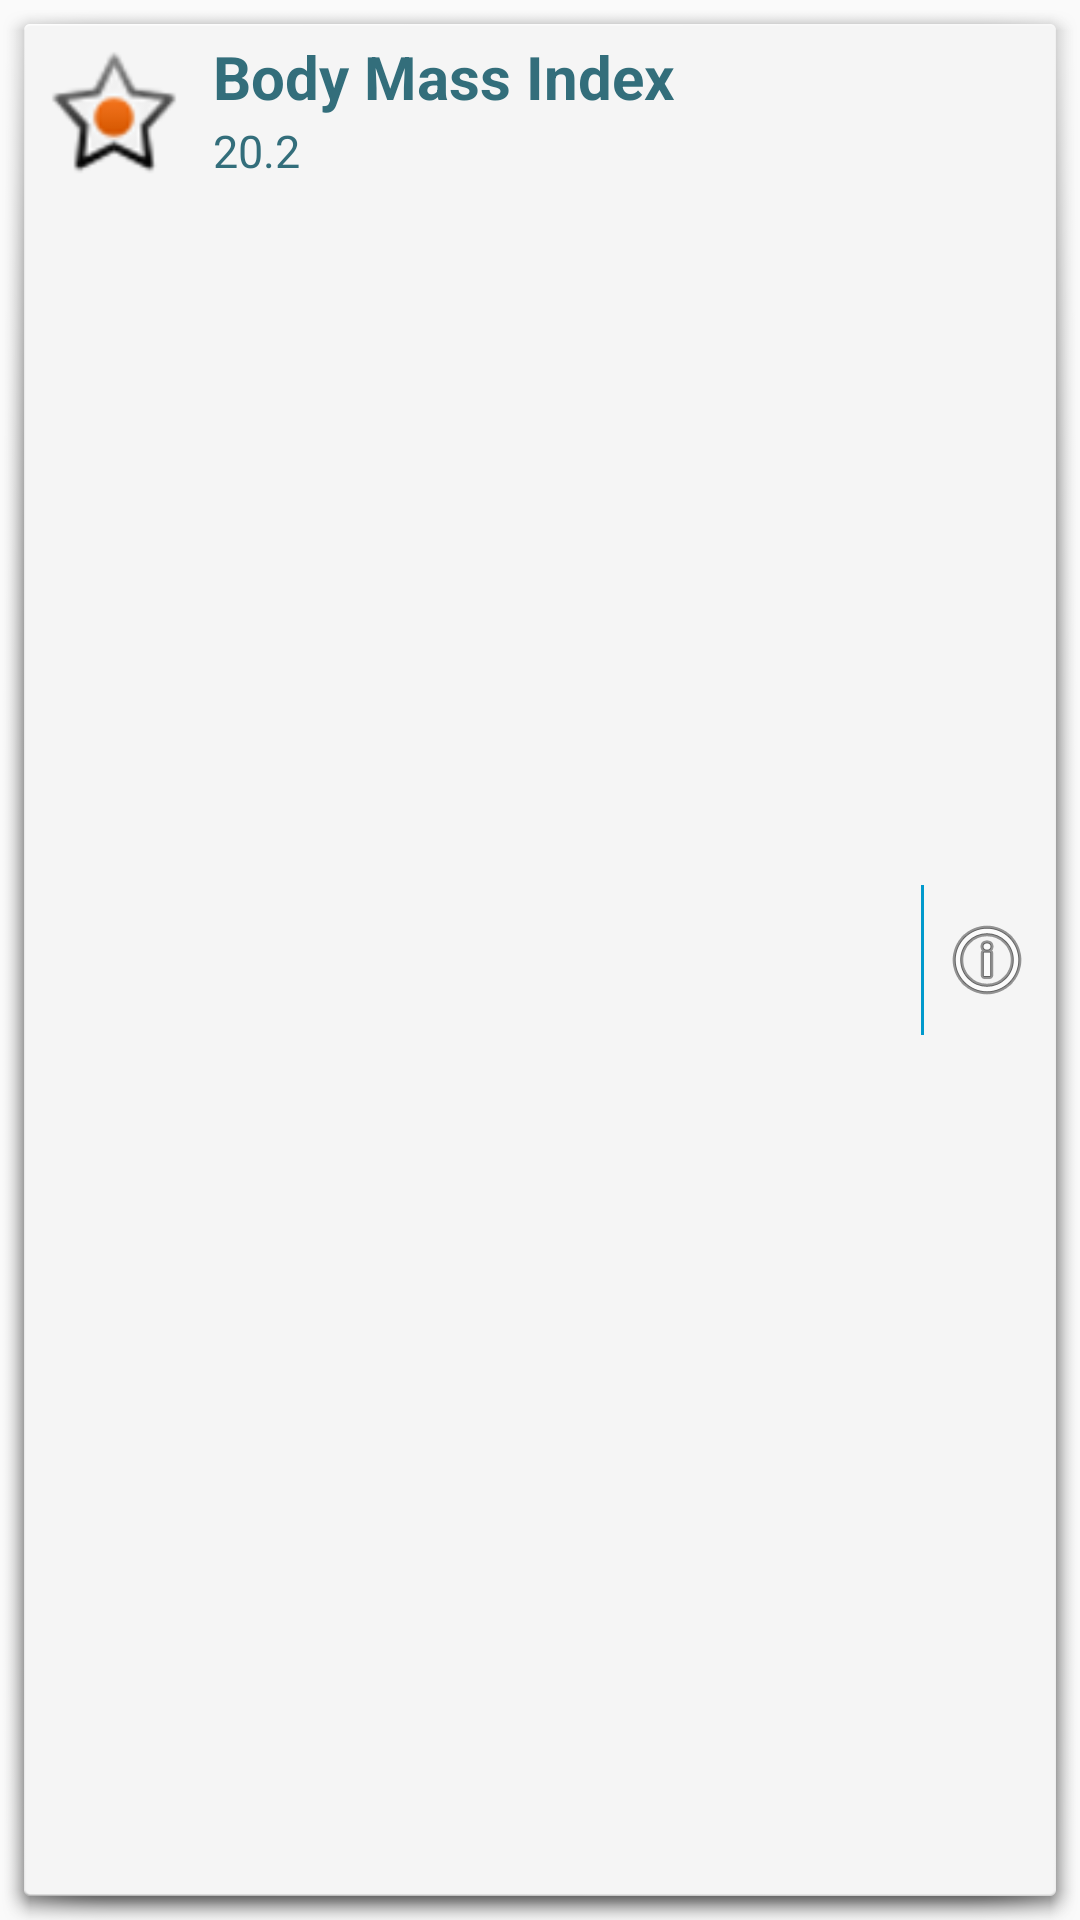

Icon click points for this 1080px x 1920px phone screenshot, format (x,y):
info details: (987,960)
star on: (114,112)
